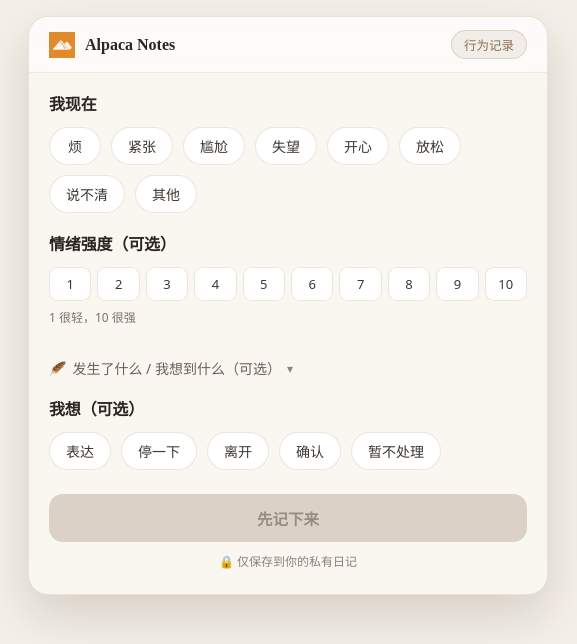
Test: QuickCheckinView › switches to behavior mode and records behavior attempt
Switch to behavior mode
Click the button "行为记录": {"x": 489, "y": 44} [451,30,527,59]
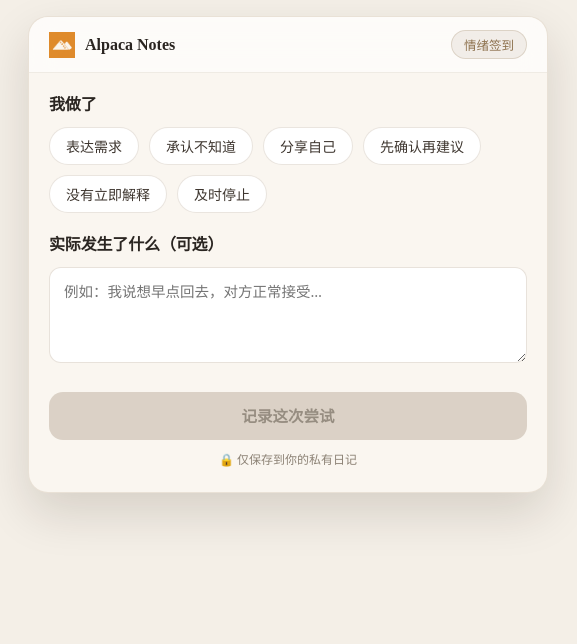
Now the heading "我做了" is shown, box [49,93,96,115]
Now the button "记录这次尝试" is disabled, box [49,392,527,440]
Click the button "表达需求": {"x": 94, "y": 146} [49,127,139,165]
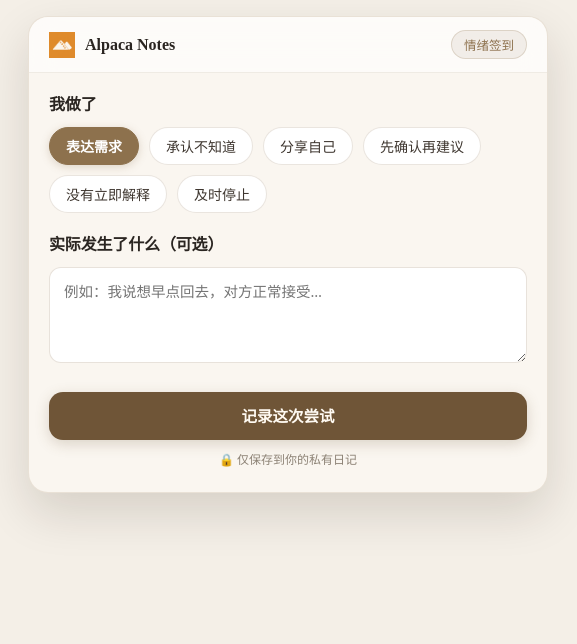
Now the button "记录这次尝试" is enabled, box [49,392,527,440]
In the text box with placeholder "例如：我说想早点回去，对方正常接受…": {"x": 288, "y": 315} [49,267,527,363], type "主动说了自己的真实想法"
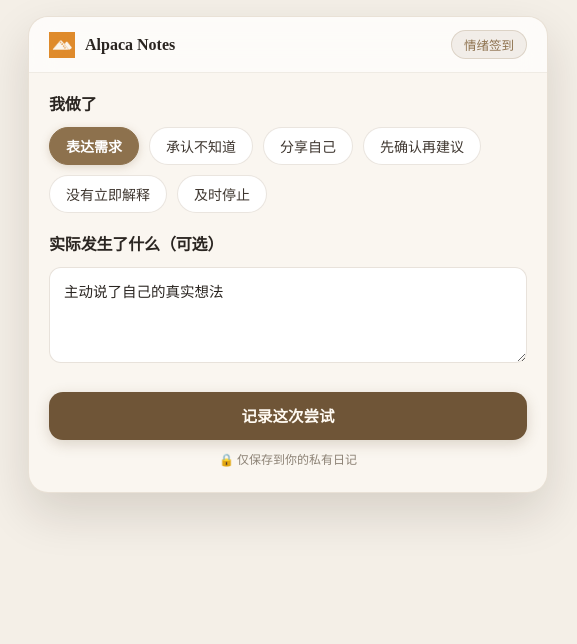
Click the button "记录这次尝试": {"x": 288, "y": 416} [49,392,527,440]
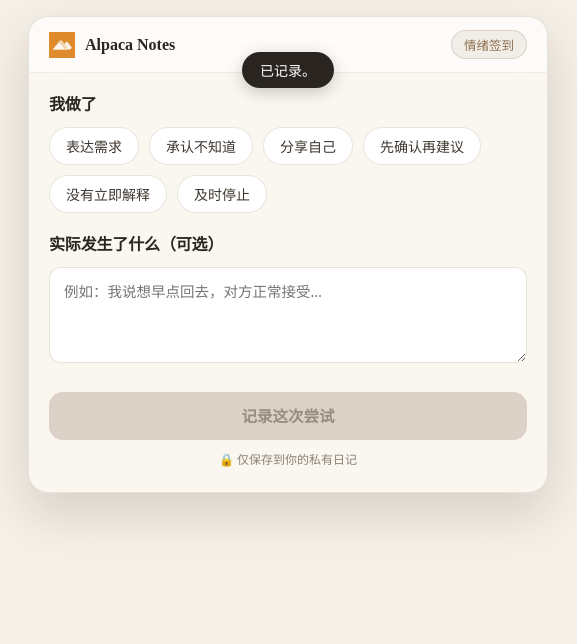
Now the text "已记录。" is shown, box [242,52,334,88]
